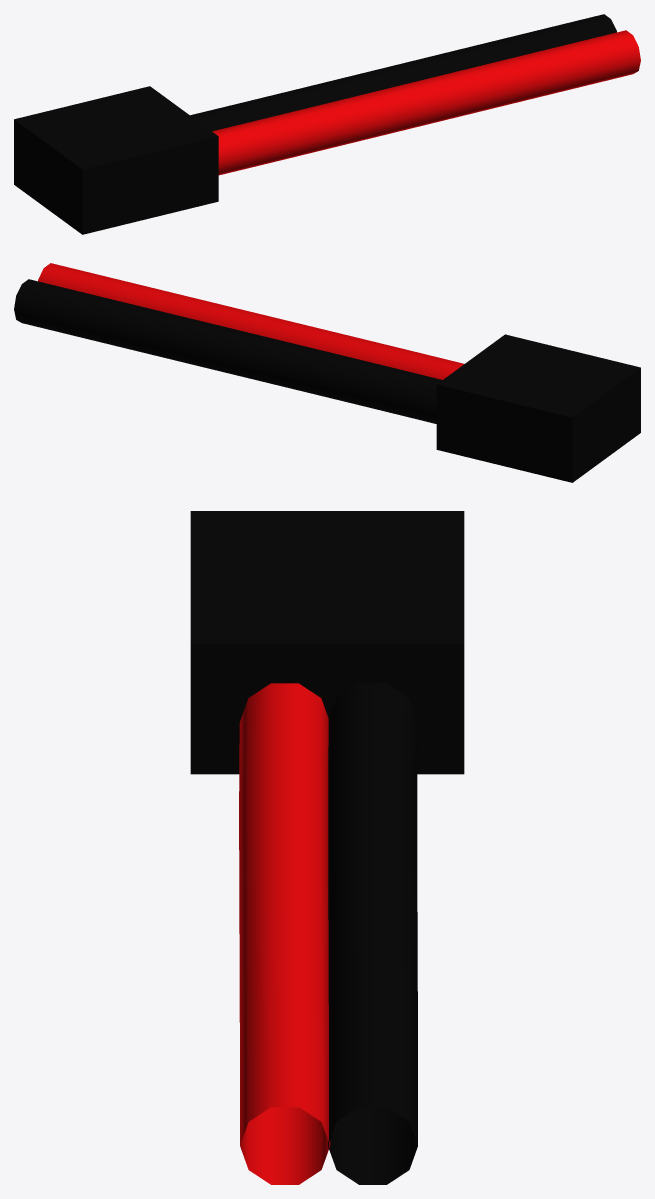
The model's file is bahankabel2.fbx.
3 views of the same model, one above another, from view 1: azimuth 30°, elevation 25°; view 2: azimuth 150°, elevation 25°; view 3: azimuth 270°, elevation 25° (orthographic). The views are drawn at different scales.
Parts seen in each view (by area): view 1: Cube, BezierCurve, BezierCurve.001; view 2: Cube, BezierCurve.001, BezierCurve; view 3: Cube, BezierCurve, BezierCurve.001.
Part boxes in pixels (box(x1,y1,x2,y2)): Cube: box(14, 86, 218, 234); BezierCurve: box(212, 30, 640, 175); BezierCurve.001: box(190, 14, 616, 131); Cube: box(436, 334, 640, 482); BezierCurve.001: box(14, 279, 442, 423); BezierCurve: box(38, 263, 463, 379); Cube: box(190, 511, 464, 774); BezierCurve: box(239, 683, 330, 1184); BezierCurve.001: box(328, 683, 417, 1184).
Bounding box in the file's own units: 135 × 14.82 × 28.16.
